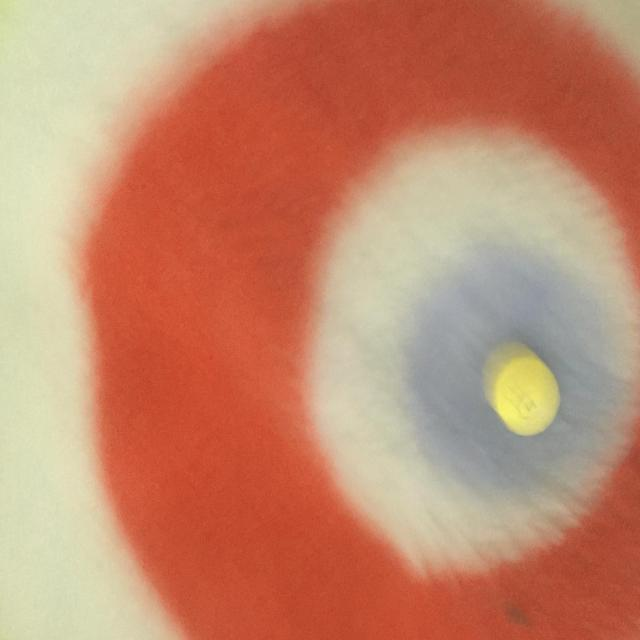pill: (496, 358, 562, 436)
